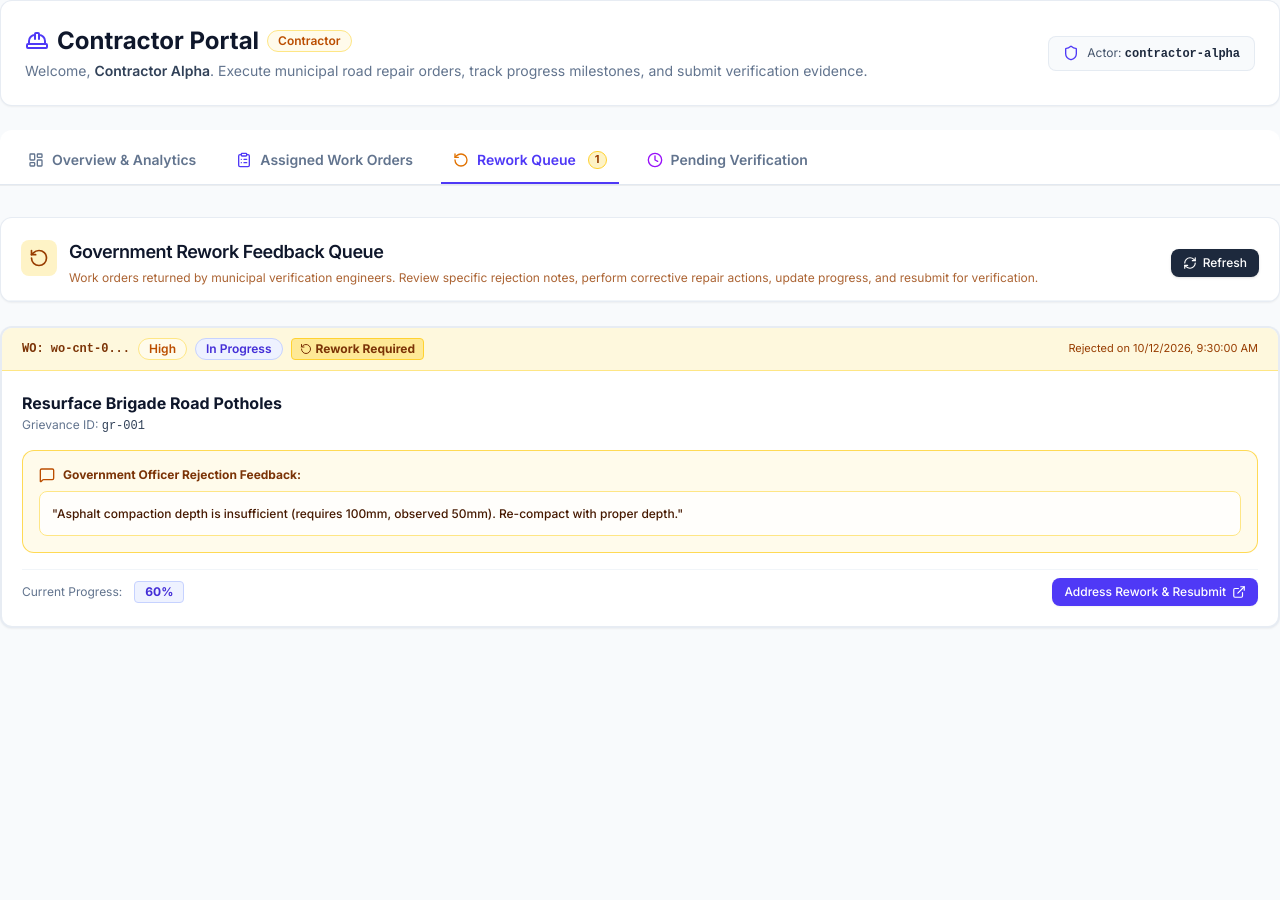
Test: Contractor Dashboard Integration Tests (Phase 26) › 12. displays rework queue with officer rejection messages and quick resubmission action
Expected: the element with test id "rework-queue-list" is shown, [0,326,1279,628]
Expected: the text "Asphalt compaction depth is insufficient" is shown, [57,506,677,520]
Note: Clicking "Address Rework & Resubmit" opens detail modal
Step 1. Click the button with test id "address-rework-btn-wo-cnt-001" → (1155,592), box [1052,578,1258,606]
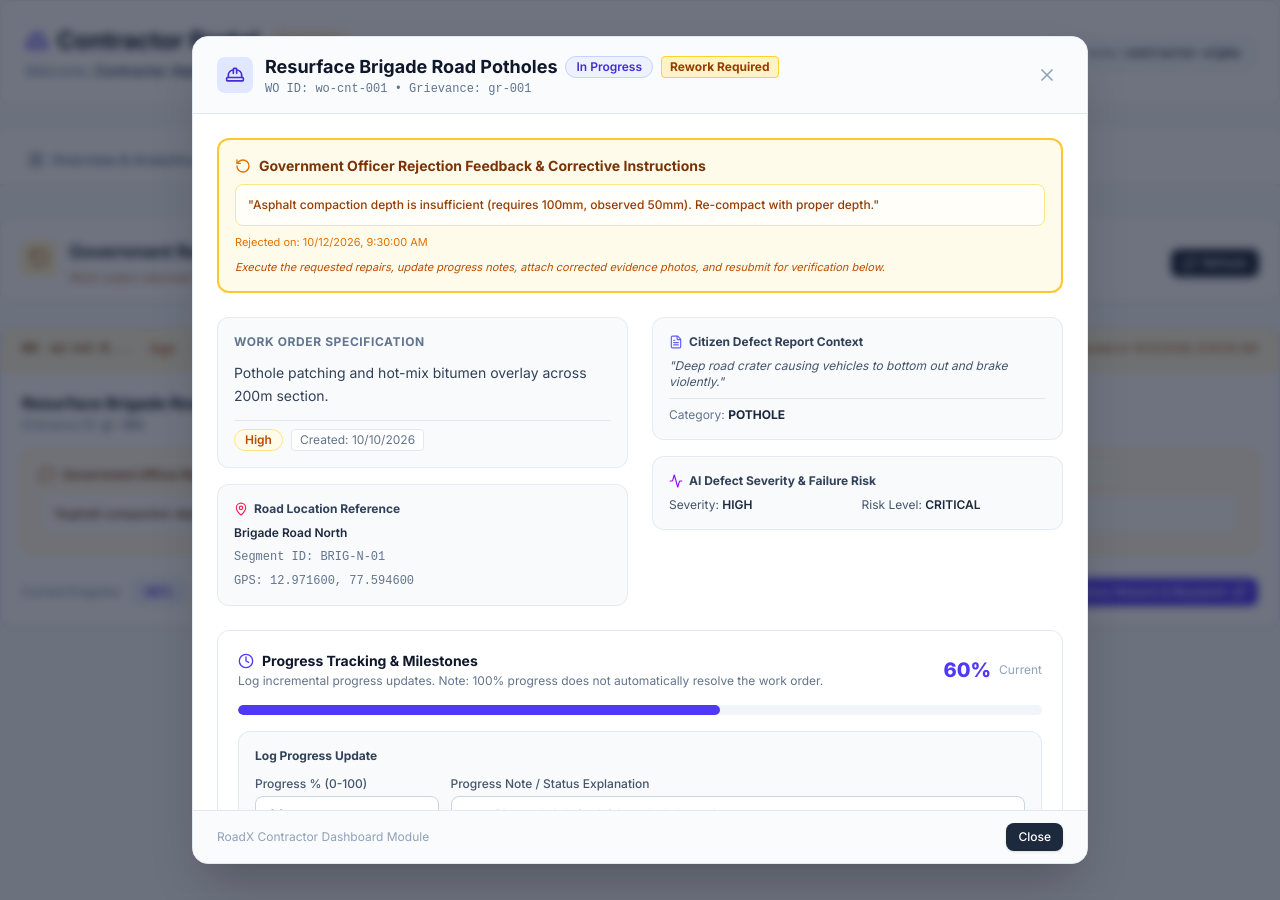
Expected: the element with test id "contractor-work-order-detail-modal" is shown
